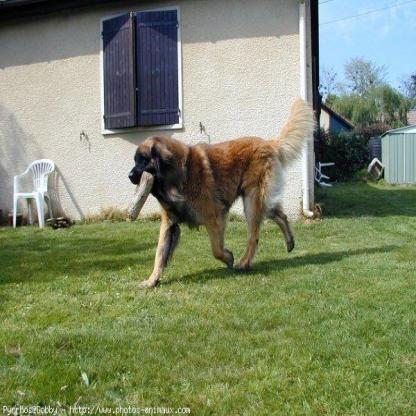Leonberg: (125, 96, 317, 288)
